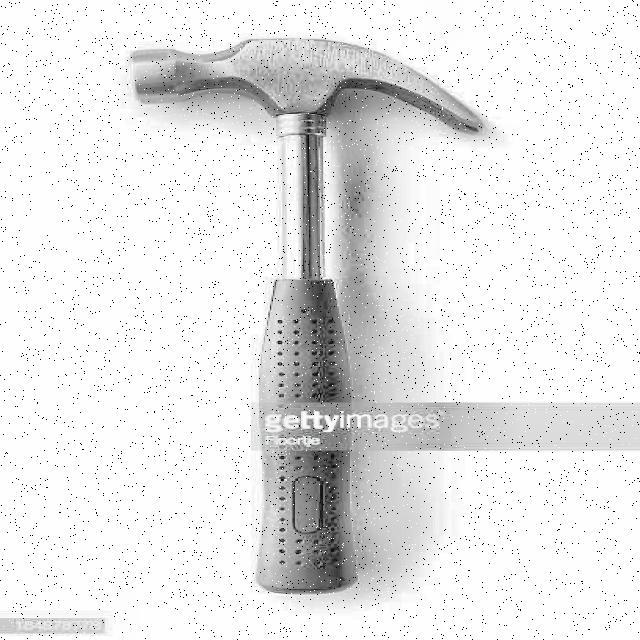hammer: (132, 34, 489, 594)
